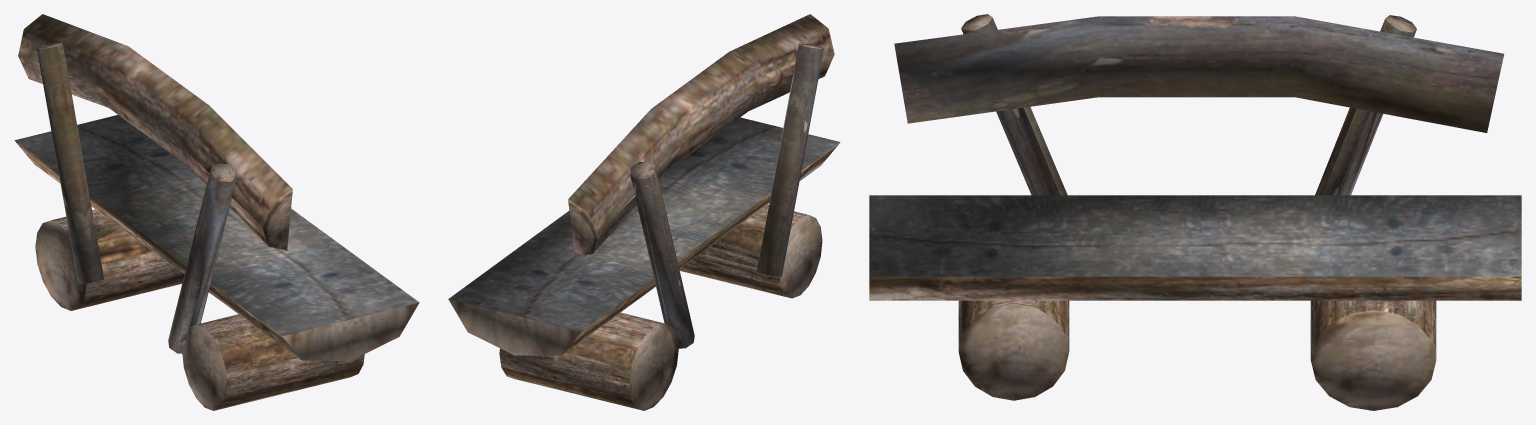
The model's file is bench.obj.
The picture shows the model from 3 angles, left to right: view 1: azimuth 30°, elevation 25°; view 2: azimuth 150°, elevation 25°; view 3: azimuth 270°, elevation 25°; orthographic projection. The views are drawn at different scales.
Bounding box in the file's own units: 30.85 × 49.71 × 87.46.
1 material, 1 textured.
